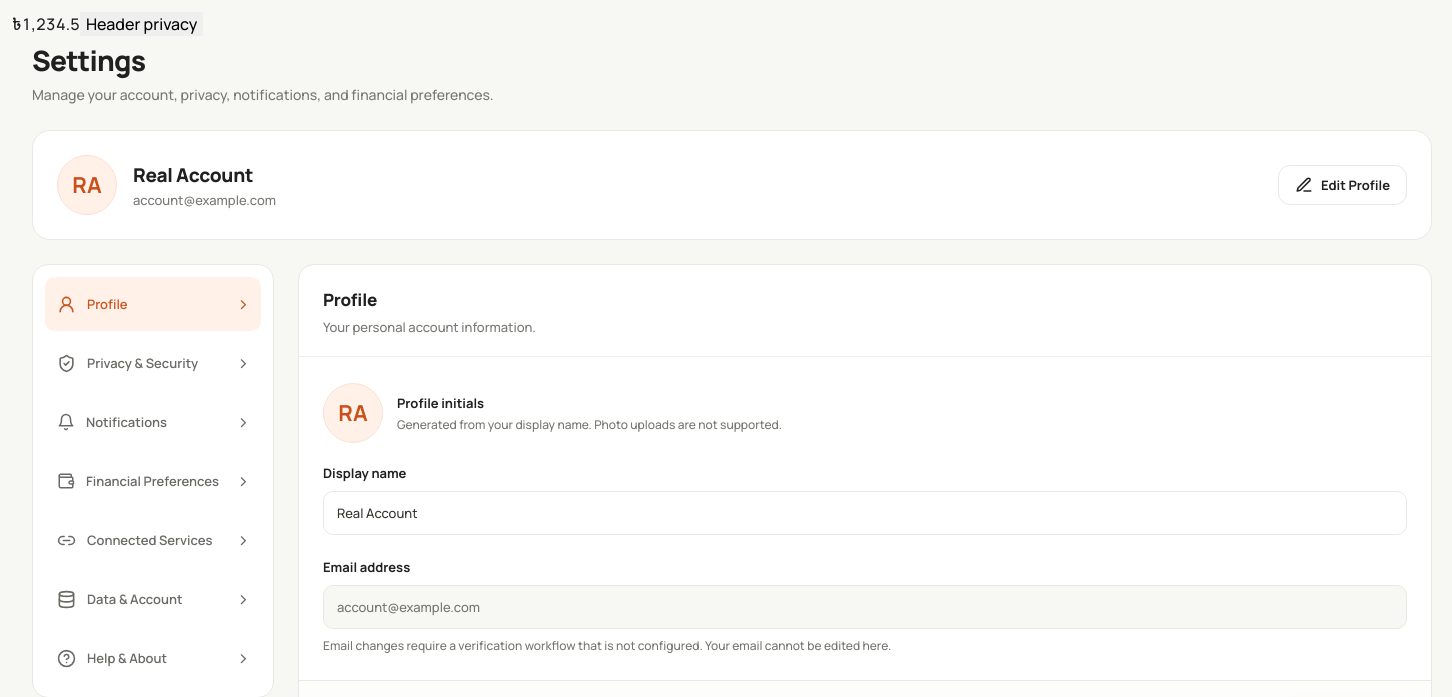
Test: loads the real profile data and provides URL-based category links
Expected: the field labelled "Display name" holds "Real Account", [323,491,1407,535]
Expected: the field labelled "Email address" holds "account@example.com", [323,585,1407,629]
Click the link "Help & About ›" at (153, 658), box [57,644,249,671]
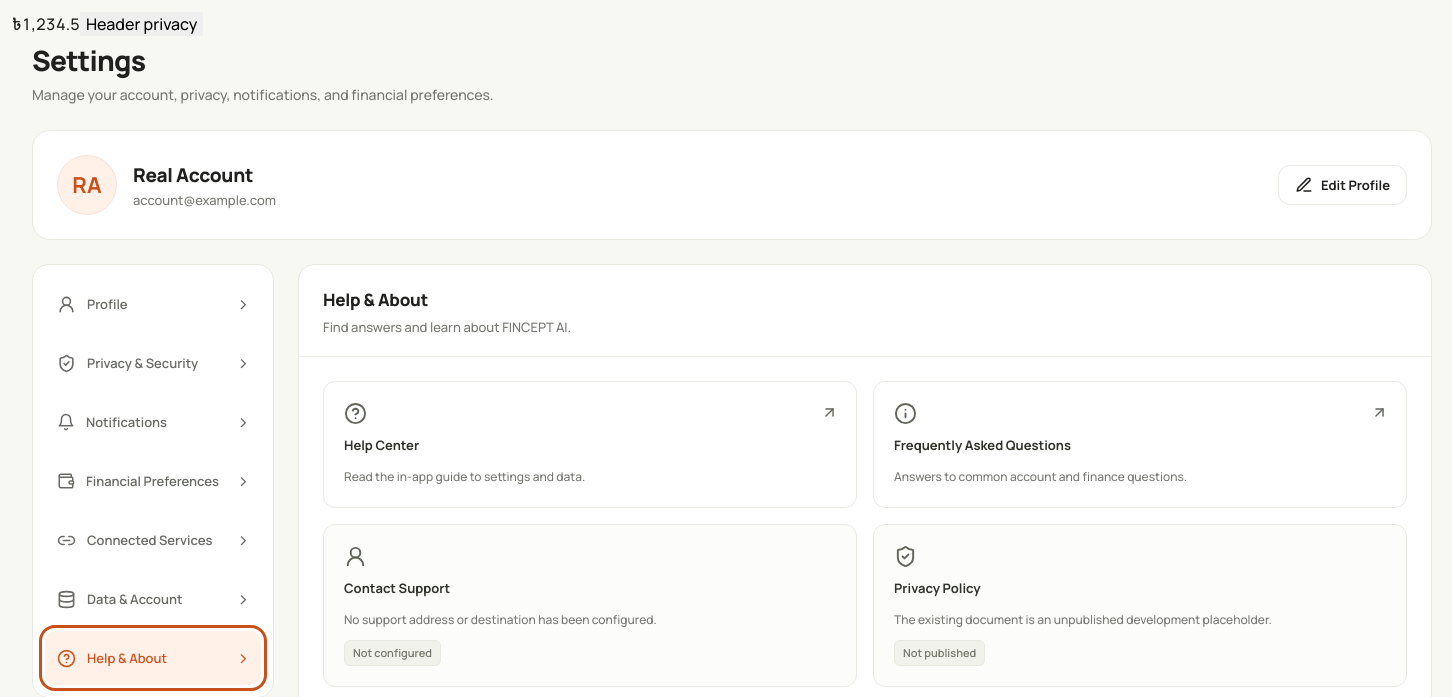
Expected: the heading "Help & About" is shown, [323,288,428,311]
